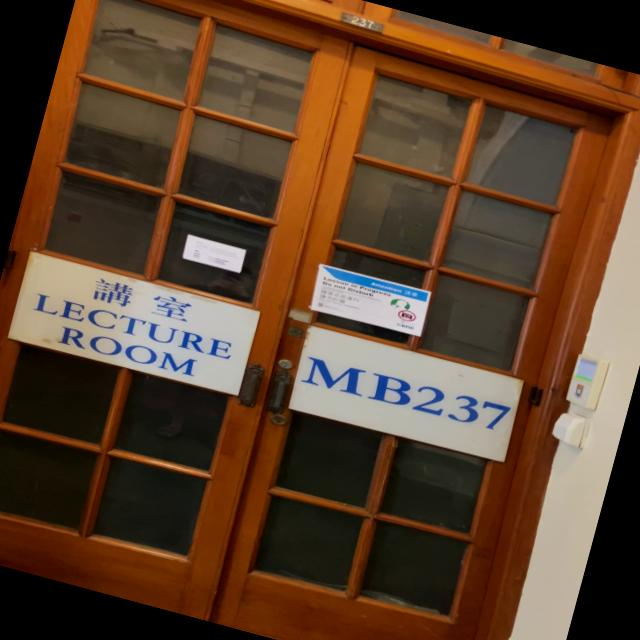room237: (338, 10, 384, 34)
room237Window: (285, 322, 527, 464)
